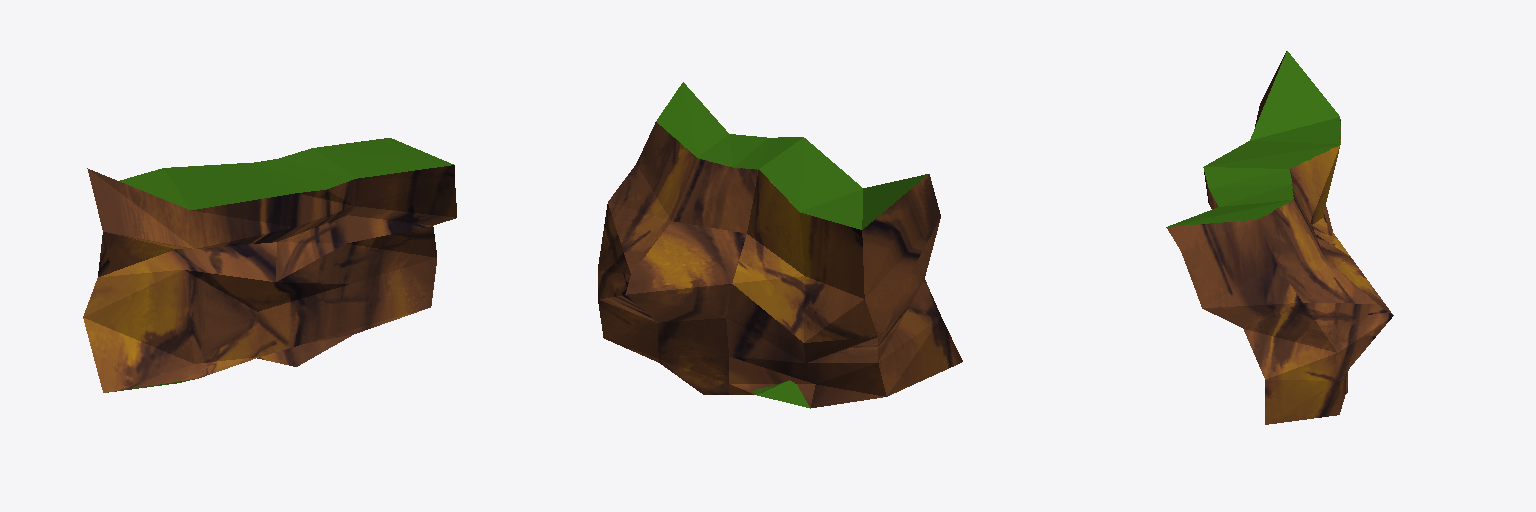
3 renders of one model, left to right at view 1: azimuth 30°, elevation 25°; view 2: azimuth 150°, elevation 25°; view 3: azimuth 270°, elevation 25°, orthographic.
Visible parts, largest first — view 1: Cube.006_Cube.007; view 2: Cube.006_Cube.007; view 3: Cube.006_Cube.007.
Boxes of the visible parts, x1,y1,x2,y2 form: Cube.006_Cube.007: [83, 138, 456, 392]; Cube.006_Cube.007: [598, 82, 962, 408]; Cube.006_Cube.007: [1166, 51, 1393, 424].
Size of the model in its own units: 87.7 by 60.31 by 49.66.
1 materials, 1 textured.